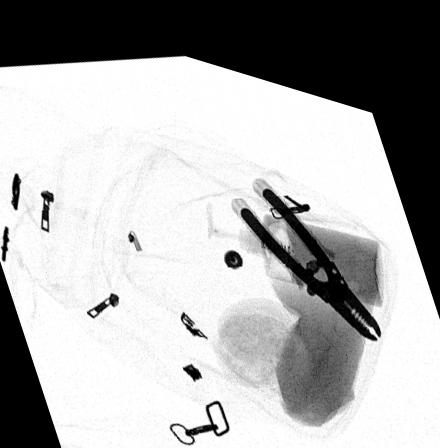Pliers: (239, 170, 380, 317)
